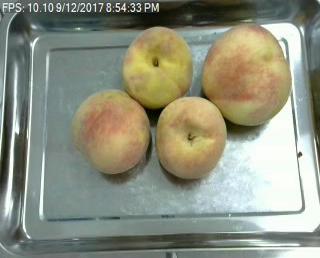Peach: (200, 21, 290, 128), (71, 89, 151, 175), (154, 94, 227, 179), (121, 25, 192, 107)
